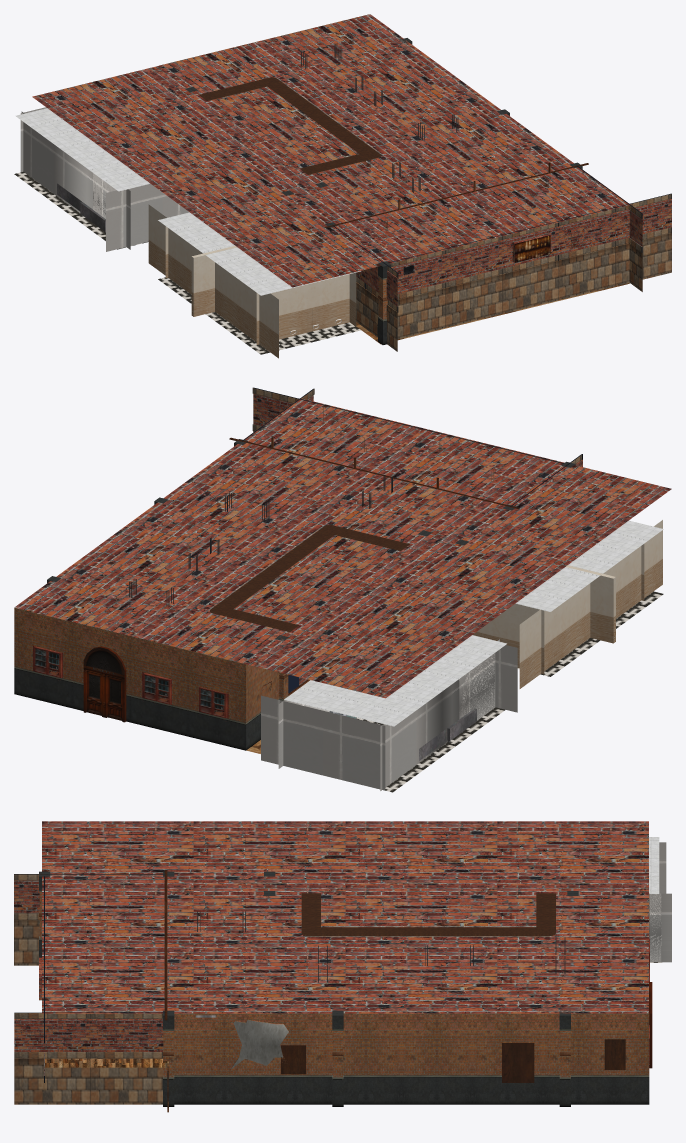
The model's file is cenario.fbx.
3 renders of one model, top to bottom at view 1: azimuth 30°, elevation 25°; view 2: azimuth 150°, elevation 25°; view 3: azimuth 270°, elevation 25°, orthographic. The views are drawn at different scales.
Visible parts, largest first — view 1: Plane.043; view 2: Plane.043; view 3: Plane.043.
Boxes of the visible parts, x1,y1,x2,y2 form: Plane.043: (14,14,671,358); Plane.043: (14,387,671,792); Plane.043: (14,821,671,1112).
Bounding box in the file's own units: 2149 × 480 × 2602.
24 materials, 18 textured.
